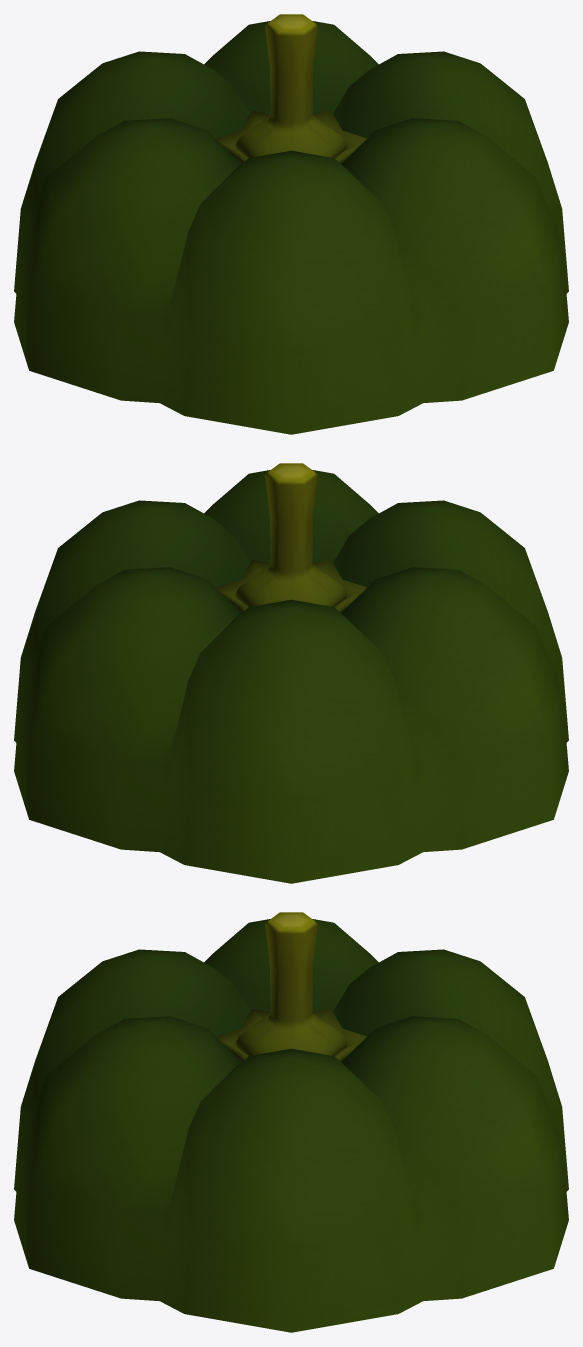
The model's file is Pepper_G_Half_Top.fbx.
The picture shows the model from 3 angles, top to bottom: view 1: azimuth 30°, elevation 25°; view 2: azimuth 150°, elevation 25°; view 3: azimuth 270°, elevation 25°; orthographic projection.
Visible parts, largest first — view 1: Pepper_G_Half_Top; view 2: Pepper_G_Half_Top; view 3: Pepper_G_Half_Top.
Boxes of the visible parts, x1=… form: Pepper_G_Half_Top: x1=14, y1=14, x2=568, y2=434; Pepper_G_Half_Top: x1=14, y1=463, x2=568, y2=883; Pepper_G_Half_Top: x1=14, y1=912, x2=568, y2=1332.
Bounding box in the file's own units: 2.3 × 1.19 × 2.11.
